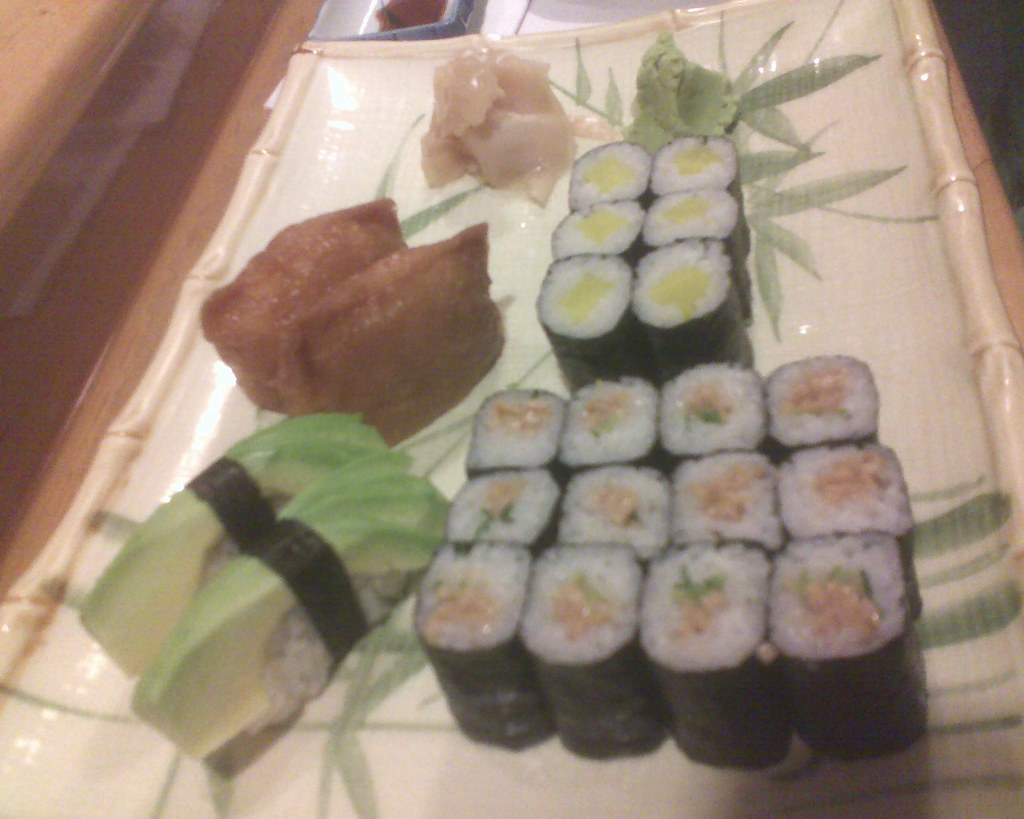sushi: (416, 134, 933, 769), (124, 450, 449, 763), (77, 413, 395, 676), (534, 136, 754, 390), (467, 395, 565, 468)
